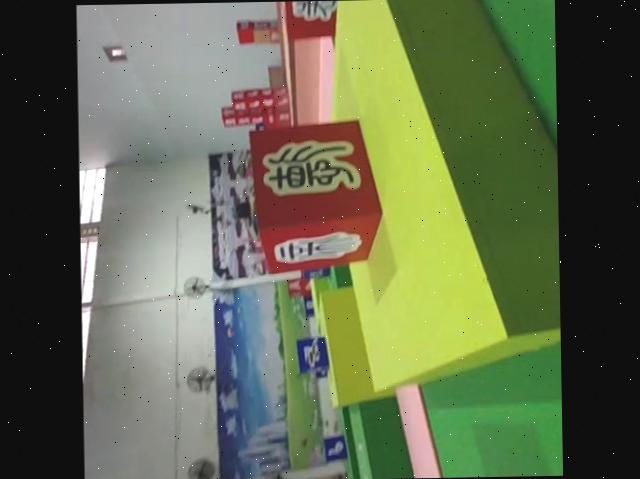R2 Fake: (245, 114, 385, 275), (273, 0, 366, 41)
